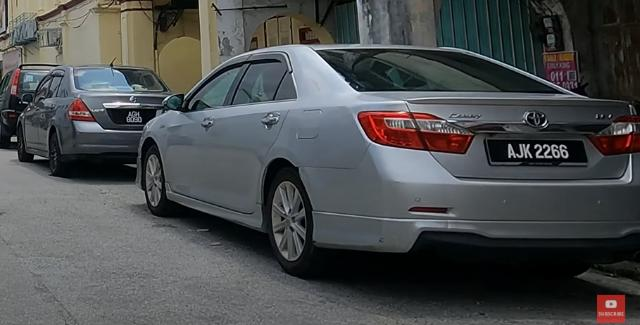License_Plate: (485, 137, 590, 167), (122, 113, 148, 126)
car: (136, 43, 640, 277), (17, 60, 182, 178)
